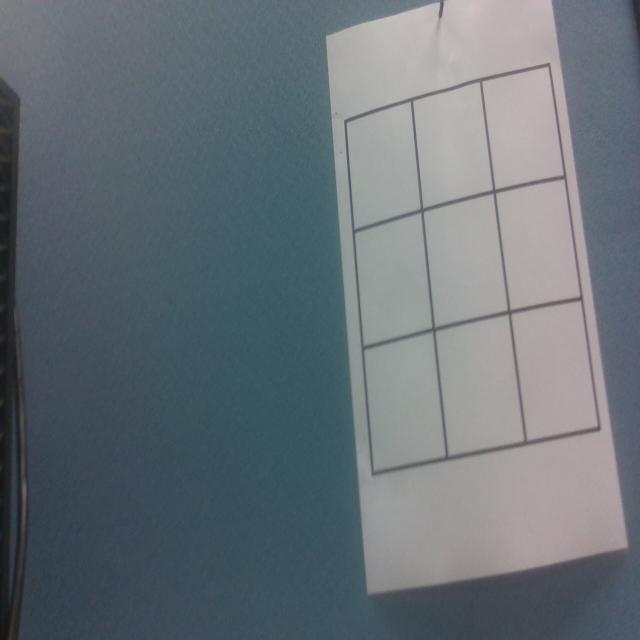null: (435, 313, 526, 461), (511, 299, 599, 446), (424, 195, 508, 331), (364, 333, 444, 474), (498, 177, 581, 312), (355, 212, 432, 349), (483, 66, 565, 192), (416, 82, 493, 210), (348, 100, 420, 229)
table: (339, 52, 604, 485)
